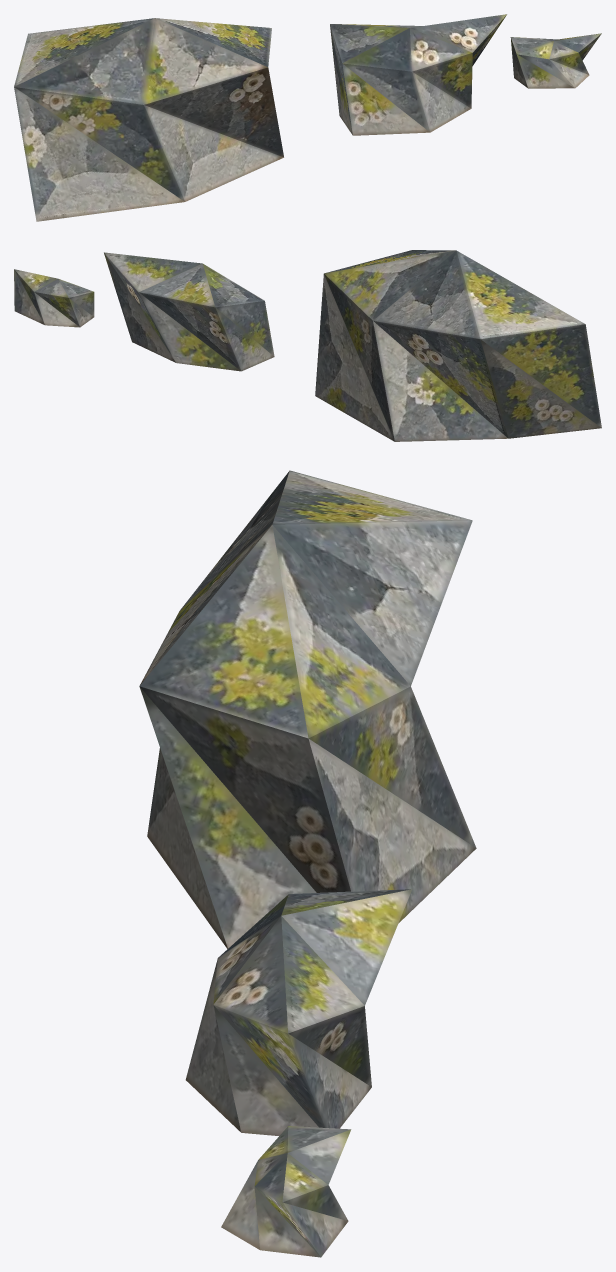
The model's file is rocks.glb.
3 renders of one model, top to bottom at view 1: azimuth 30°, elevation 25°; view 2: azimuth 150°, elevation 25°; view 3: azimuth 270°, elevation 25°, orthographic. The views are drawn at different scales.
Parts seen in each view (by area): view 1: rock_a, rock_b, rock_c; view 2: rock_a, rock_b, rock_c; view 3: rock_a, rock_b, rock_c.
Part boxes in pixels (<box>): rock_a: <box>14,18,283,221</box>; rock_b: <box>330,14,506,135</box>; rock_c: <box>510,33,601,88</box>; rock_a: <box>315,250,601,441</box>; rock_b: <box>104,252,274,371</box>; rock_c: <box>14,269,94,327</box>; rock_a: <box>139,470,476,948</box>; rock_b: <box>185,889,412,1135</box>; rock_c: <box>221,1126,351,1257</box>.
Bounding box in the file's own units: 3.3 × 0.8607 × 0.8394.
Materials: 1 (1 with a texture image).
